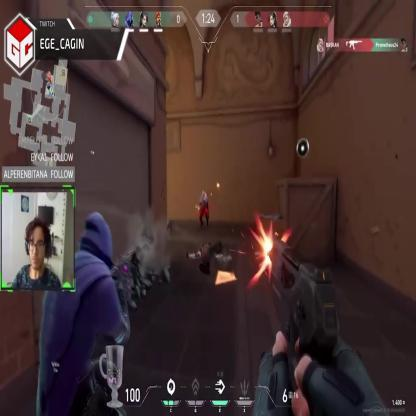enemy: (199, 191, 210, 229)
enemy_head: (202, 190, 205, 198)
